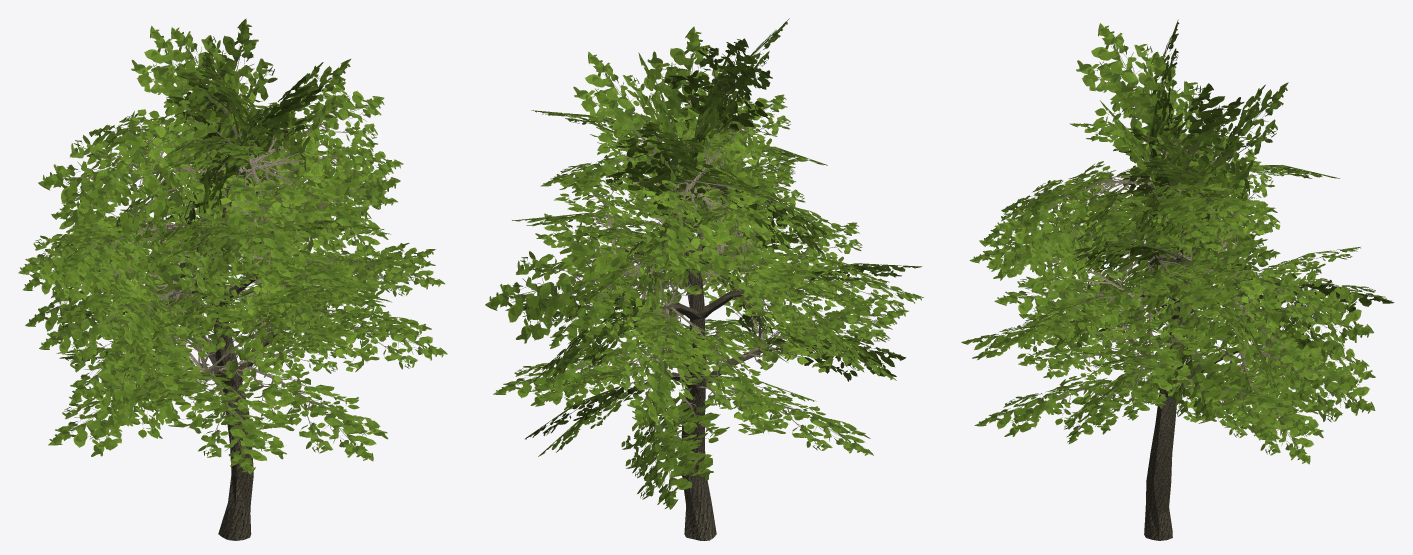
The model's file is tree4_apple.obj.
3 renders of one model, left to right at view 1: azimuth 30°, elevation 25°; view 2: azimuth 150°, elevation 25°; view 3: azimuth 270°, elevation 25°, orthographic. The views are drawn at different scales.
Parts seen in each view (by area): view 1: tree4_apple; view 2: tree4_apple; view 3: tree4_apple.
Part boxes in pixels (left/top/right/bottom): tree4_apple: left=18, top=18, right=447, bottom=540; tree4_apple: left=485, top=18, right=923, bottom=540; tree4_apple: left=961, top=19, right=1394, bottom=540.
Bounding box in the file's own units: 5.74 × 7.53 × 6.09.
2 materials, 2 textured.
